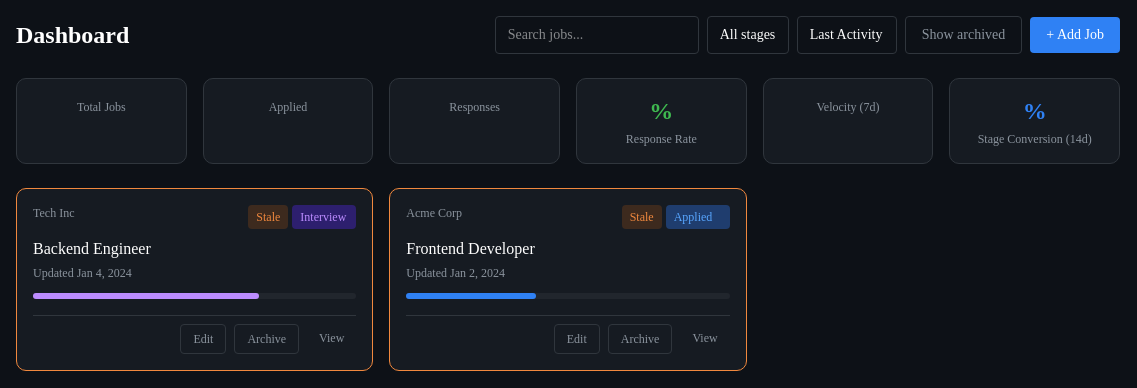
DashboardPage - S2-001 Job Search › filters jobs by keyword in job posting body
The width and height of the screenshot is (1137, 388).
In the field with placeholder "Search jobs...": (597, 35) [495,16,699,54], type "React"
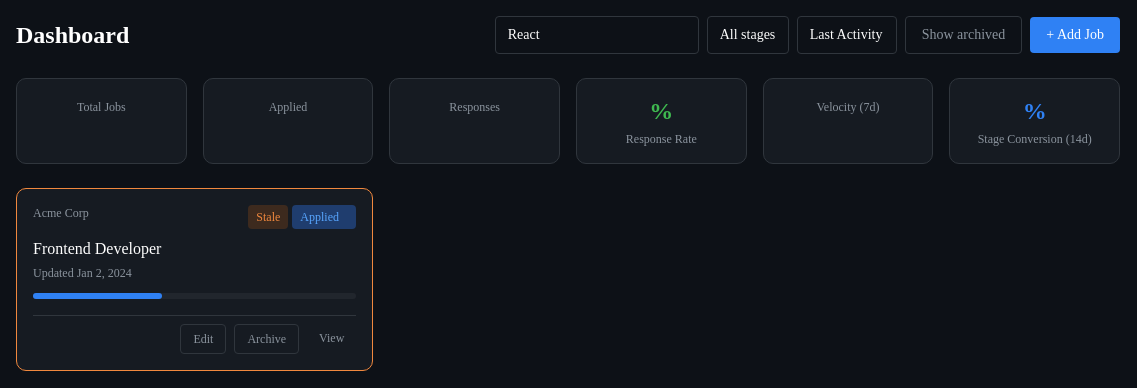
Expected: the heading "Frontend Developer" is shown, [33,240,161,257]
Expected: the link "Backend Engineer" is gone
